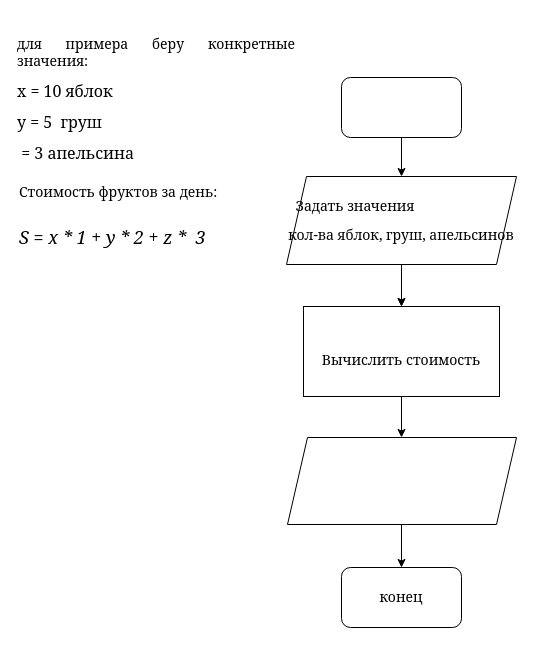
Image size: 534x645. Some labels were removed from this diagram. Each missing label, with the centre of its shape:
"Вывести результат Стоимость за понедельник и вторник" belongs at point 401,480.
"начало" belongs at point 401,107.
